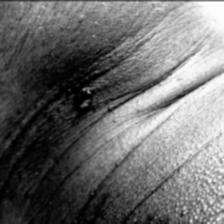Unclassified: (148, 116, 224, 224), (49, 43, 137, 130)
